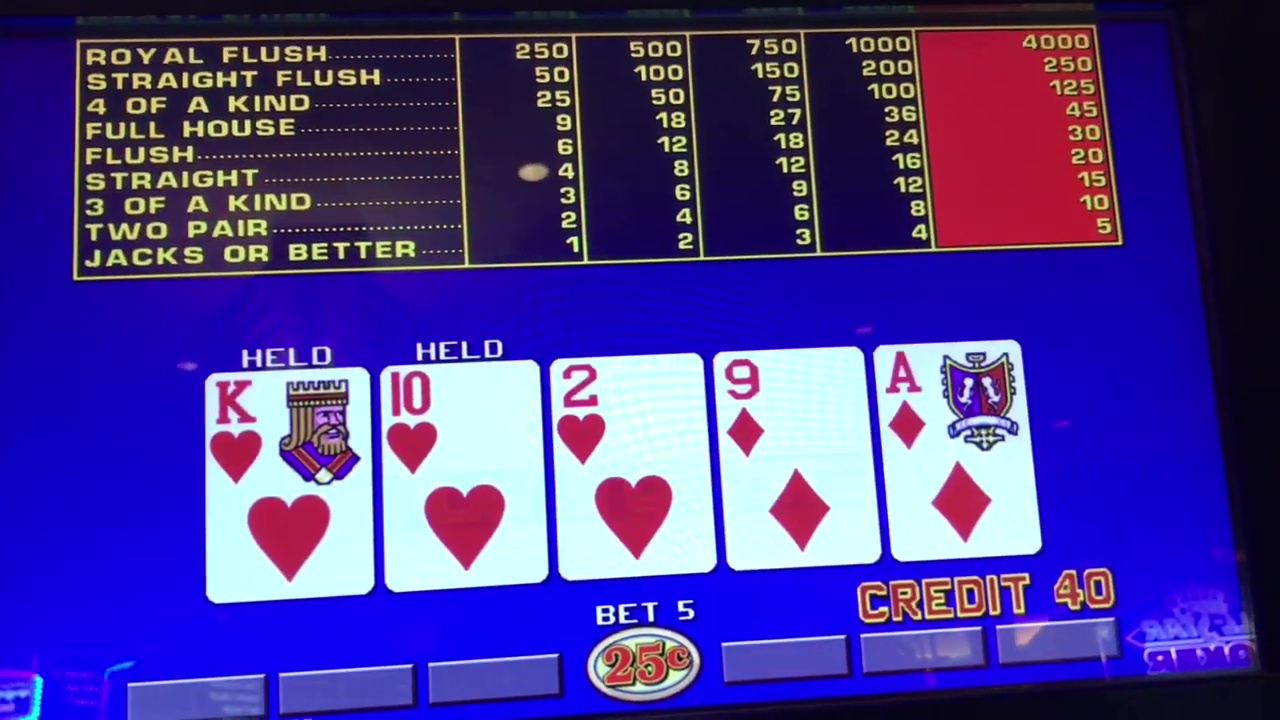D9: (720, 349, 867, 565)
DA: (882, 345, 1023, 552)
H2: (554, 358, 706, 574)
HK: (211, 370, 373, 596)
HT: (386, 366, 536, 582)
